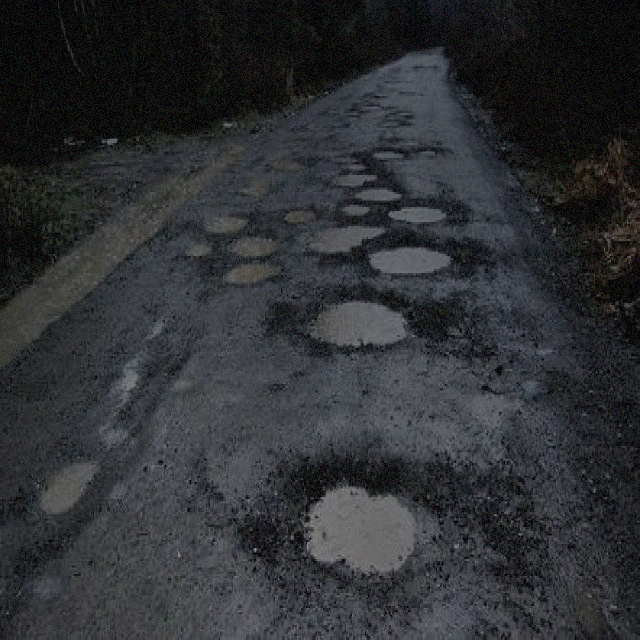pothole: (289, 459, 432, 576), (301, 290, 417, 350), (36, 454, 100, 512), (364, 237, 456, 277), (306, 220, 386, 256), (222, 258, 285, 286), (384, 198, 449, 224), (226, 235, 278, 258), (200, 211, 250, 233), (329, 168, 379, 186), (352, 183, 399, 200), (370, 145, 406, 160), (282, 205, 316, 220)
